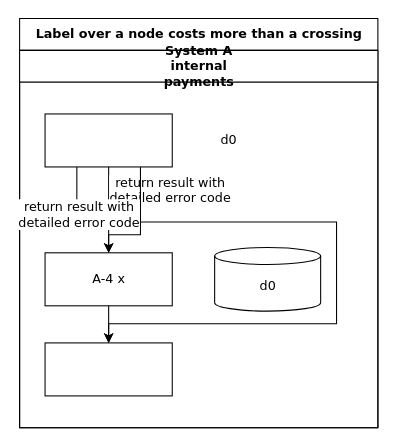
The diagram is 396 pixels wide and 446 high, and some of its shapes have lost their labels. Here are the shapes that lost their labels. From the top down, the centre of each, then its label:
At [108,140]: "A-3 x".
At [108,369]: "A-5 x".
